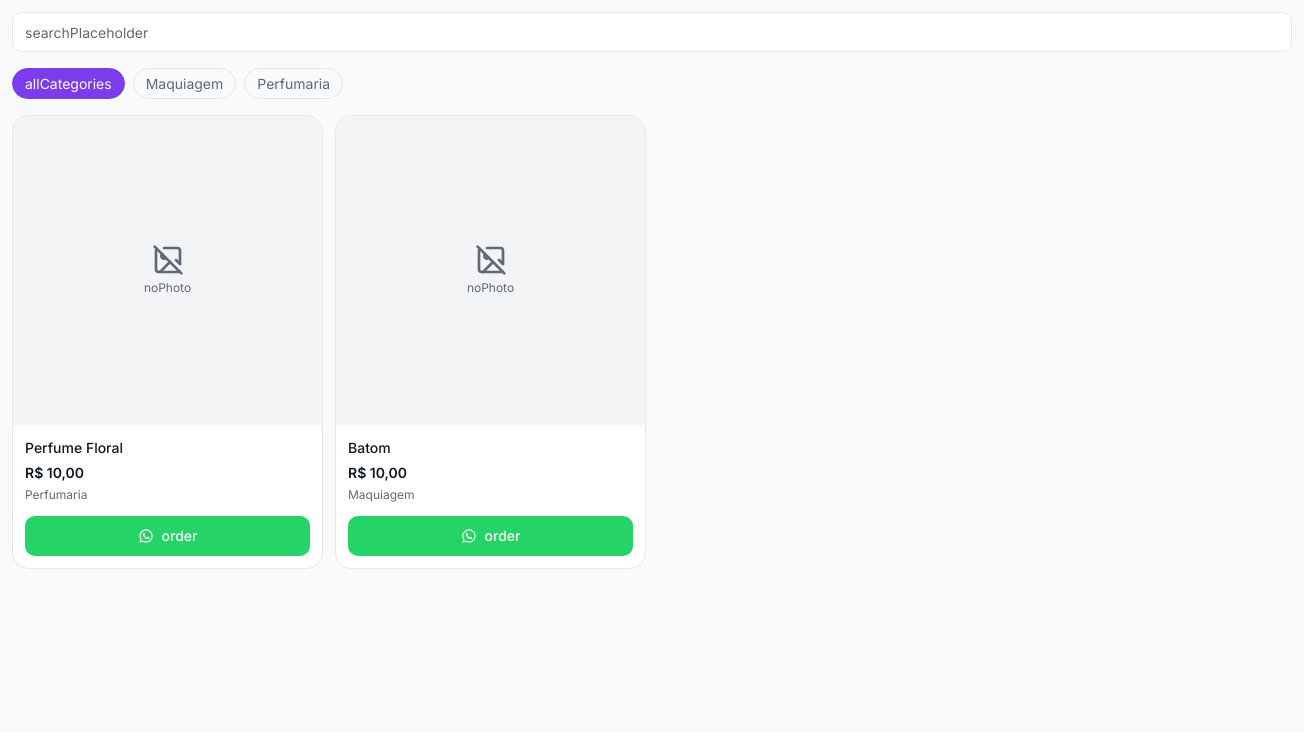
it: VitrineExplorer › mostra empty state sem resultado e permite limpar
Step 1. Type "zzz" into the search field → (652, 32), box [12, 12, 1292, 52]
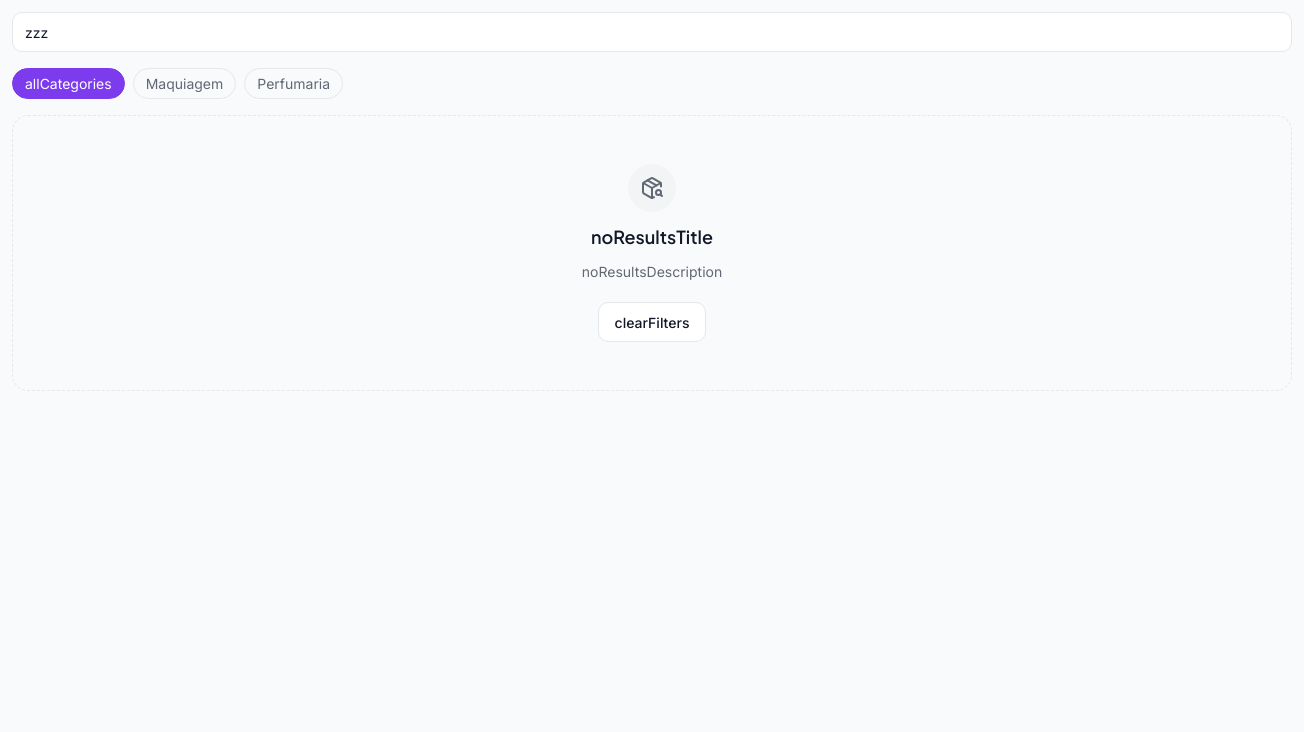
Check: the heading "noResultsTitle" is shown, box [591, 224, 713, 249]
Step 2. Click the button "clearFilters" → click(652, 322), box [598, 302, 706, 342]
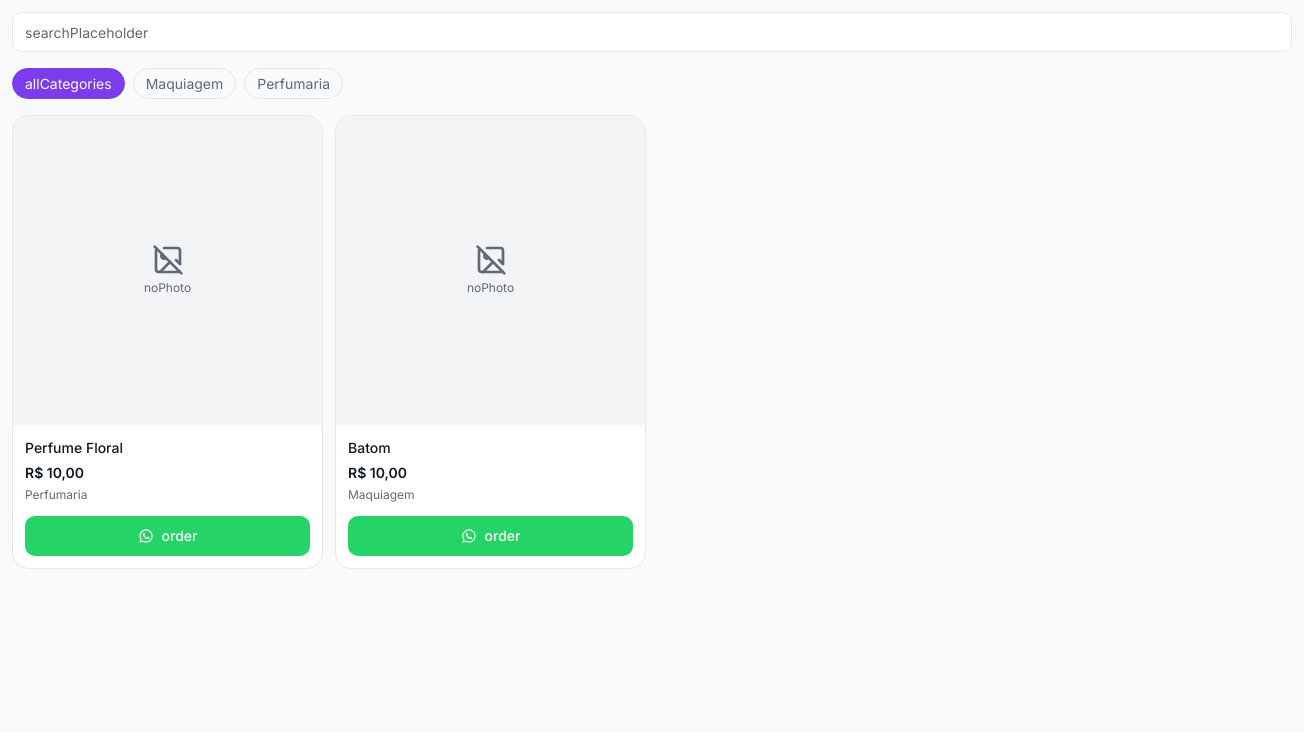
Check: the text "Perfume Floral" is shown, box [25, 439, 123, 456]
